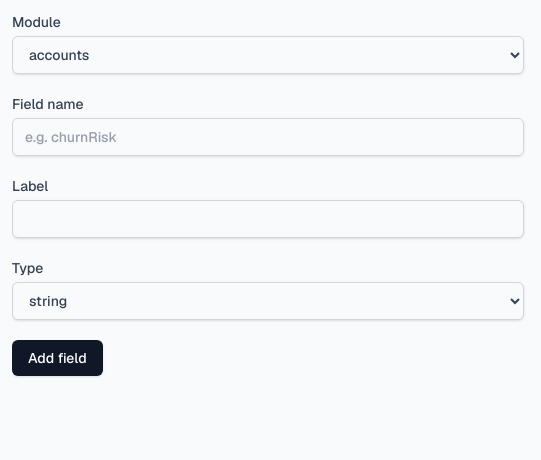
Test: StudioForm › adds a custom field with the chosen module, name, label and type
The image size is (541, 460).
Select "accounts" in the dropdown labelled "Module" at (268, 55), box [12,36,524,74]
Type "churnRisk" into the field labelled "Field name" at (268, 137), box [12,118,524,156]
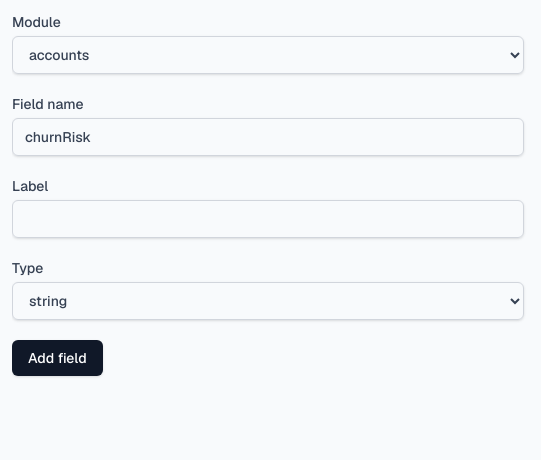
Type "Churn risk" into the field labelled "Label" at (268, 219), box [12,200,524,238]
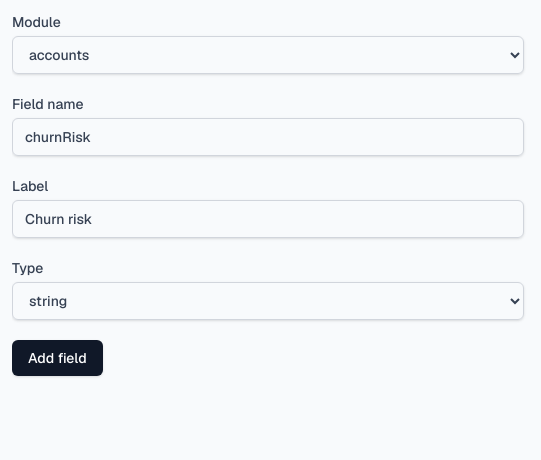
Select "string" in the dropdown labelled "Type" at (268, 301), box [12,282,524,320]
Click the button "Add field" at (57, 358), box [12,340,103,376]
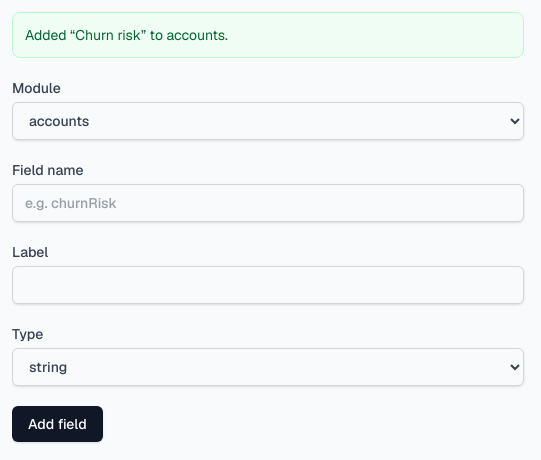
Expected: the text "Added “Churn risk” to accounts." is shown, [12,12,524,58]
